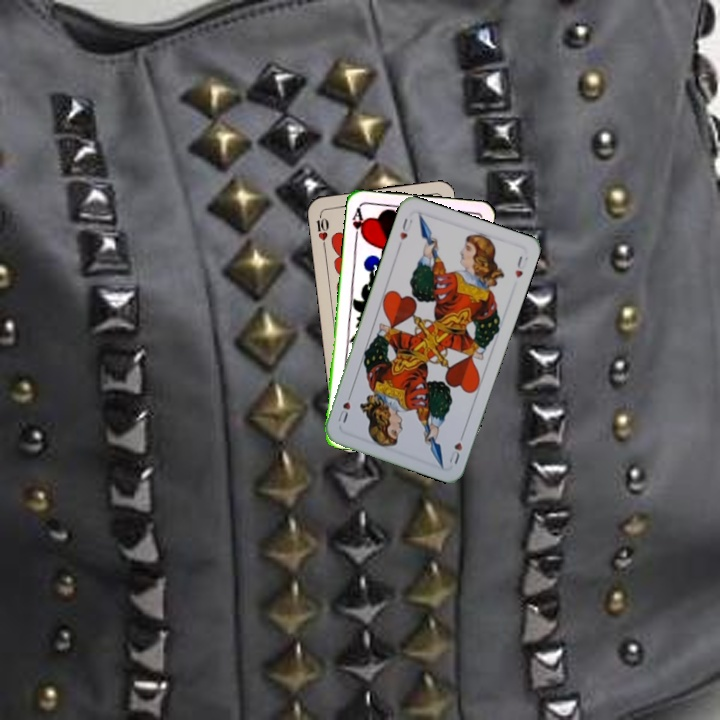H10: (312, 209, 332, 250)
HA: (348, 204, 368, 244)
HU: (445, 428, 467, 467), (396, 214, 415, 243)
